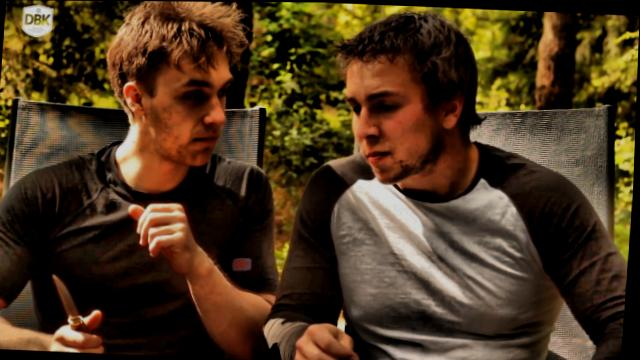knife: (41, 264, 114, 353)
